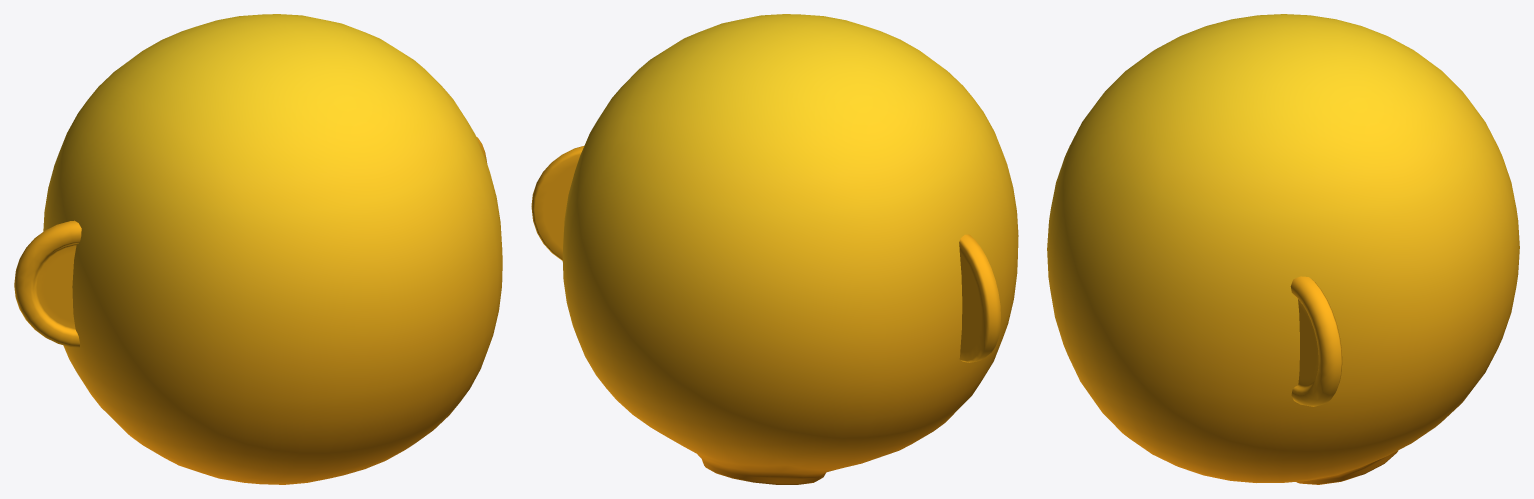
File: bald.gltf
3 renders of one model, left to right at view 1: azimuth 30°, elevation 25°; view 2: azimuth 150°, elevation 25°; view 3: azimuth 270°, elevation 25°, orthographic.
Visible parts, largest first — view 1: Roundcube.436, Cylinder.005; view 2: Roundcube.436, Cylinder.005; view 3: Roundcube.436, Cylinder.005.
Boxes of the visible parts, x1,y1,x2,y2 form: Roundcube.436: (43, 14, 502, 484); Cylinder.005: (14, 137, 487, 347); Roundcube.436: (562, 14, 1018, 484); Cylinder.005: (531, 146, 1000, 362); Roundcube.436: (1047, 14, 1519, 484); Cylinder.005: (1290, 276, 1342, 406).
Bounding box in the file's own units: 1.76 × 1.52 × 1.52.
1 material, 1 textured.
